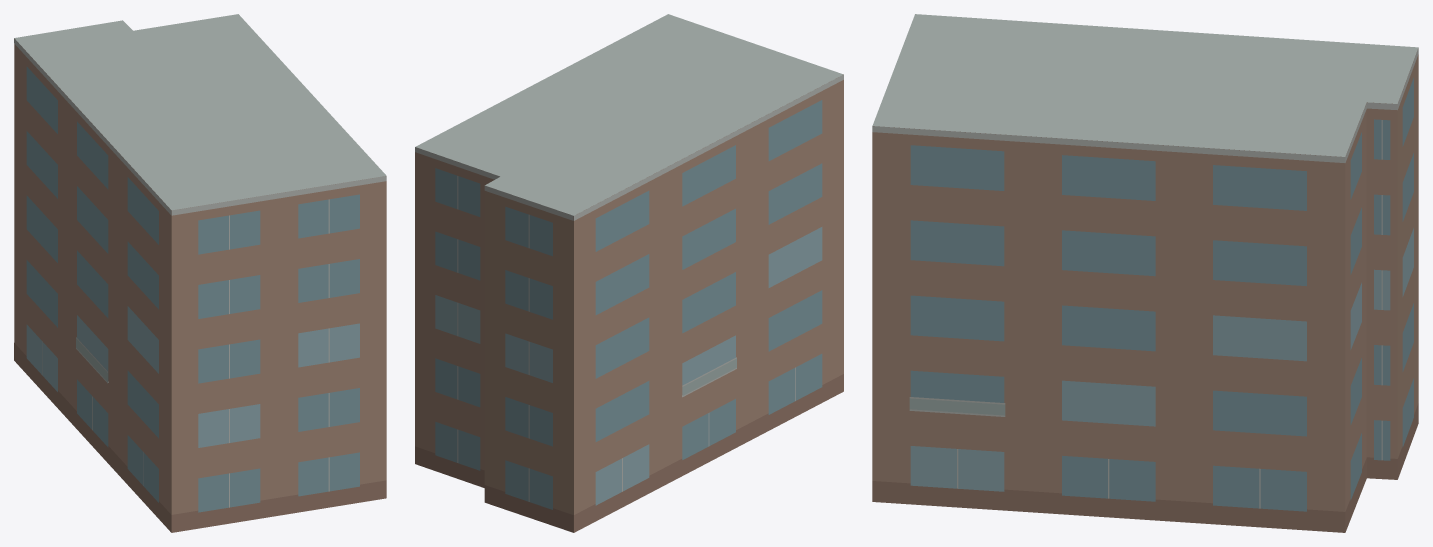
File: survey-upis-32626681.glb
3 views of the same model, side by side, from view 1: azimuth 30°, elevation 25°; view 2: azimuth 150°, elevation 25°; view 3: azimuth 270°, elevation 25° (orthographic). The views are drawn at different scales.
Visible parts, largest first — view 1: survey-upis-32626681.tmp; view 2: survey-upis-32626681.tmp; view 3: survey-upis-32626681.tmp.
Part boxes in pixels (box(x1,y1,x2,y2)): survey-upis-32626681.tmp: box(14, 14, 386, 532); survey-upis-32626681.tmp: box(415, 14, 843, 532); survey-upis-32626681.tmp: box(872, 14, 1418, 532).
Bounding box in the file's own units: 12.17 × 14.9 × 19.64.
